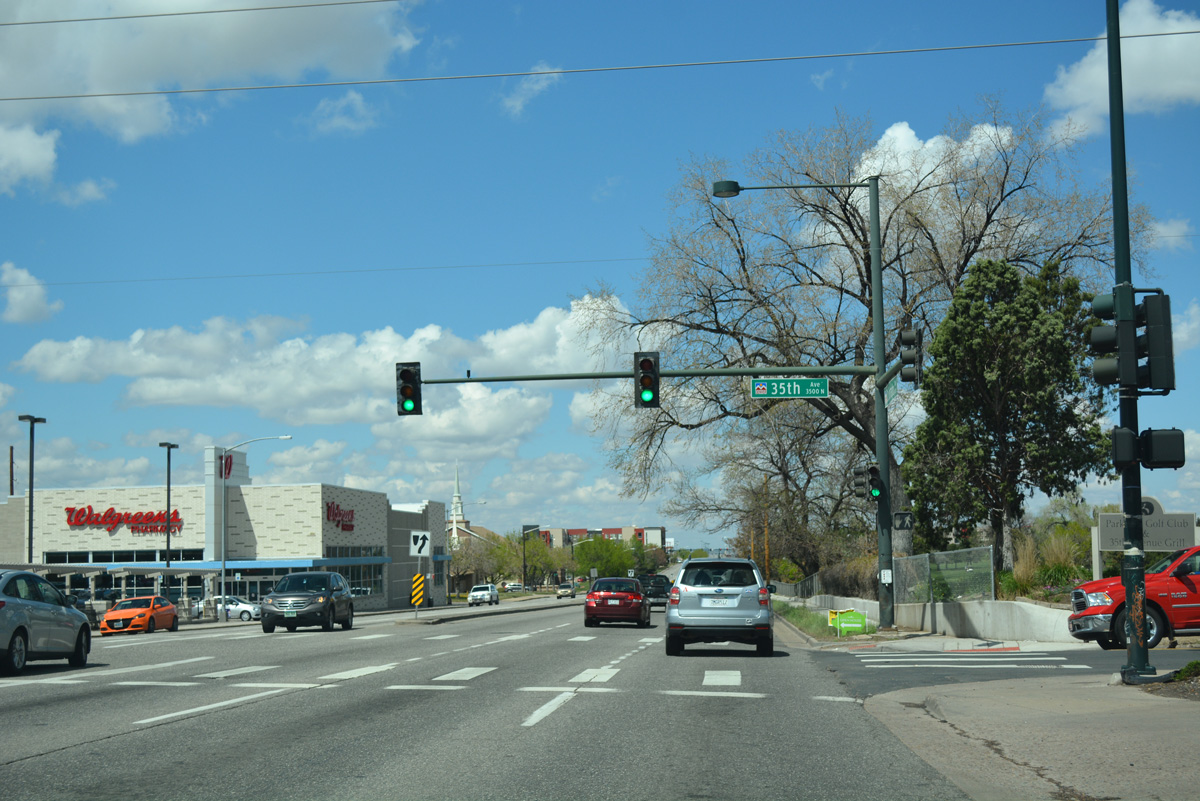traffic_light: (393, 360, 425, 417), (632, 350, 662, 410), (865, 463, 885, 501)
